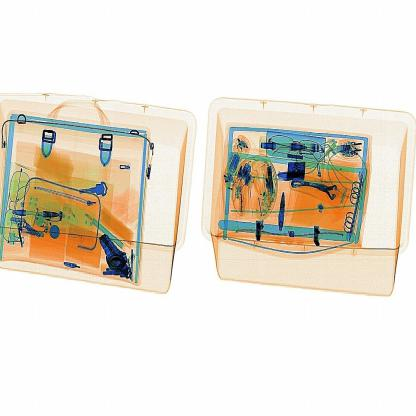knife: (270, 162, 310, 190)
